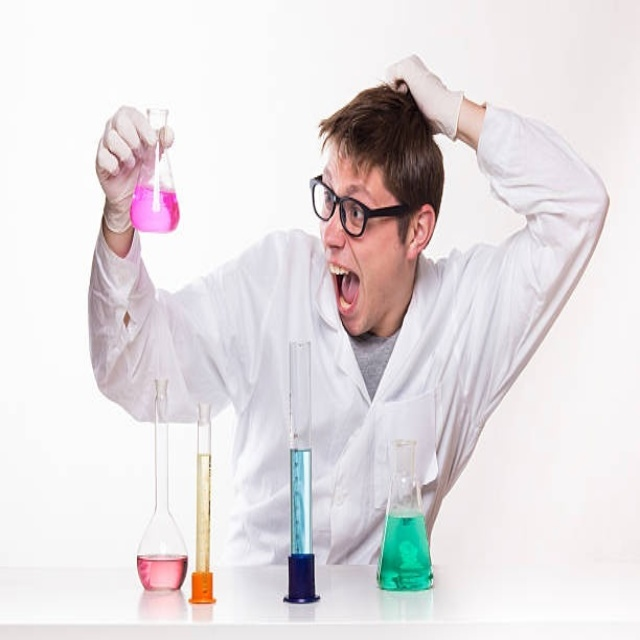Gafas: (309, 177, 417, 238)
Guantes: (96, 105, 171, 234), (381, 53, 466, 141)
Sin_mascara: (324, 249, 382, 336)
